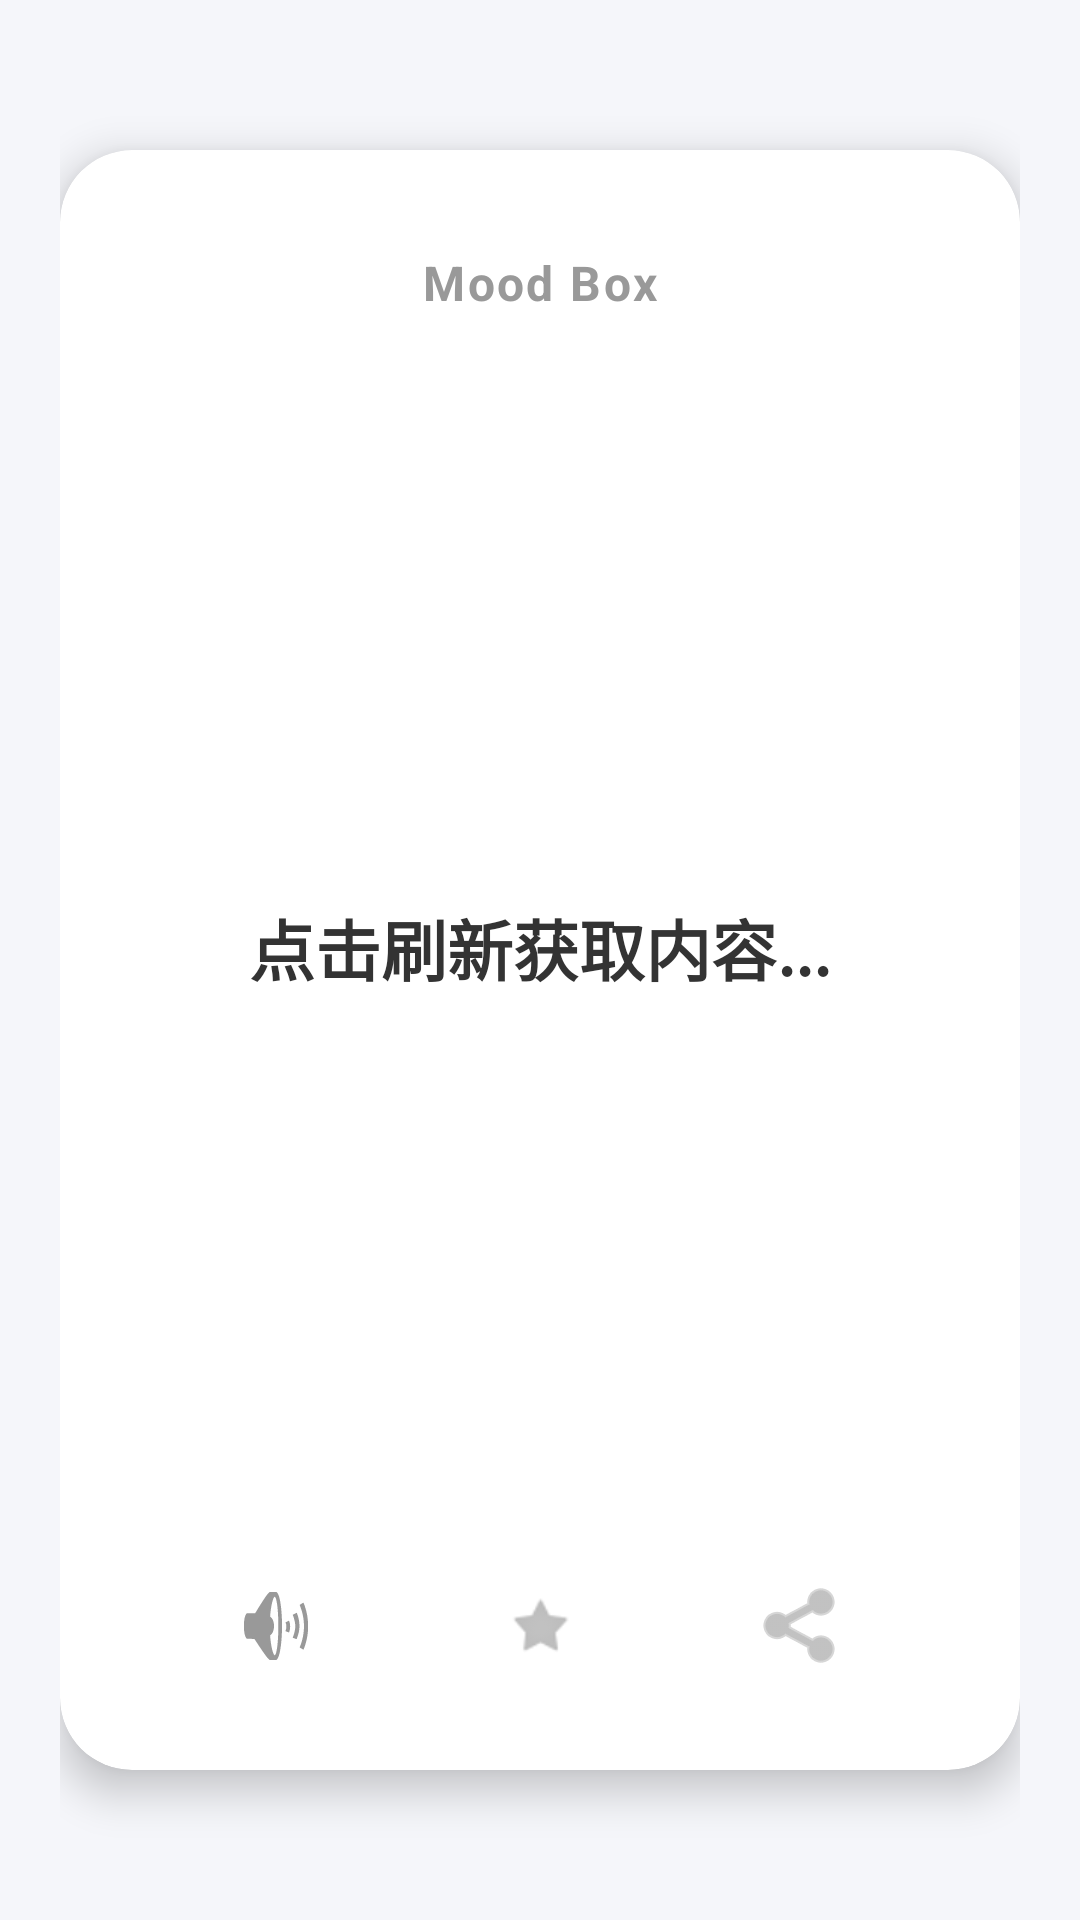

Named icons in this screenshot (1080×1920) and their bounding boxes, rect(x1, y1, x2, y2):
lock silent mode off: rect(244, 1592, 308, 1660)
share: rect(763, 1588, 835, 1663)
star off: rect(515, 1600, 567, 1650)
